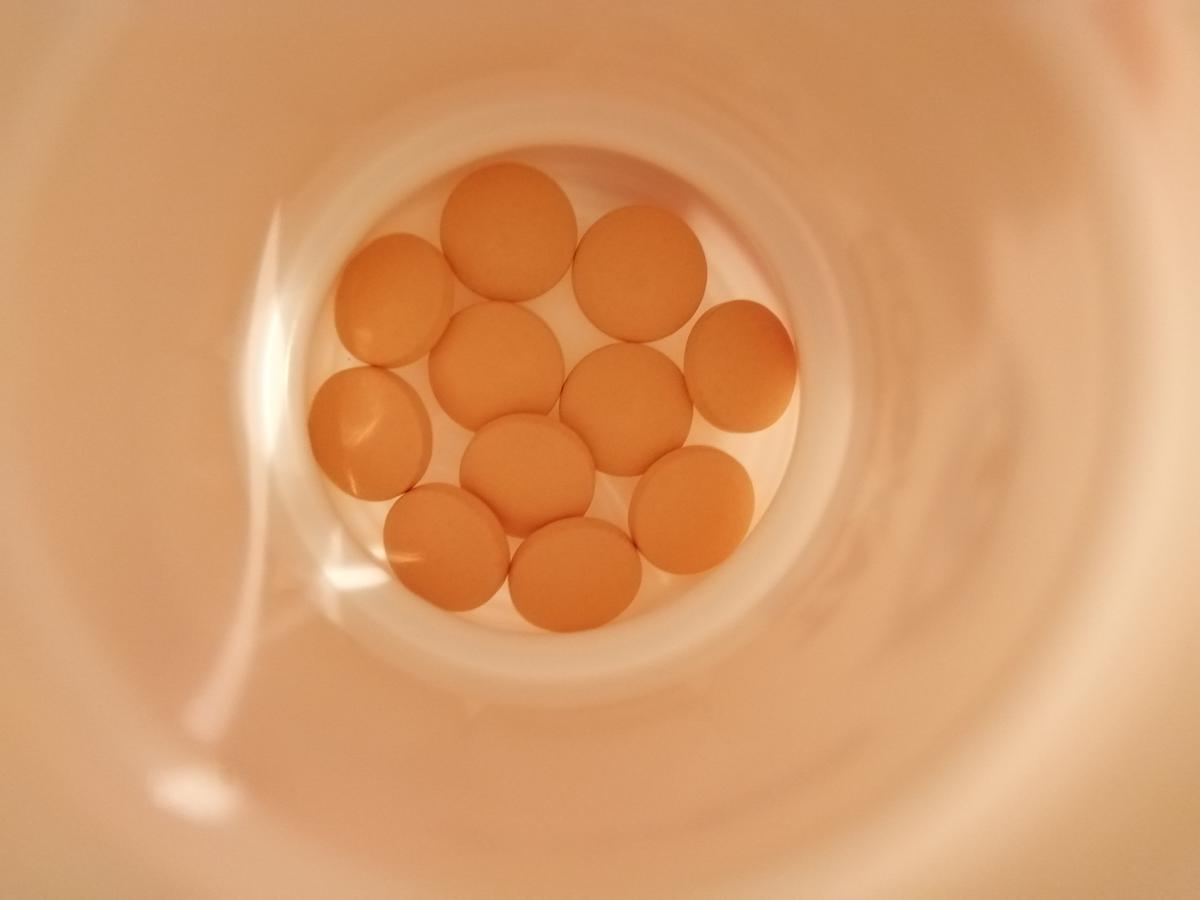tablet: (437, 160, 577, 306), (574, 200, 707, 344), (558, 343, 694, 478), (426, 300, 566, 431), (303, 367, 435, 504), (328, 228, 455, 369), (458, 410, 599, 537), (381, 482, 511, 617), (628, 443, 755, 579), (684, 299, 805, 435), (509, 517, 644, 635)
